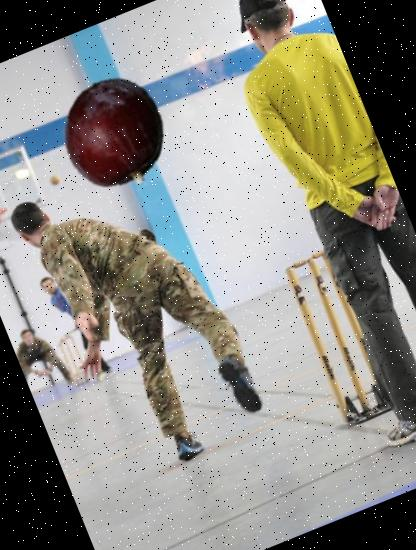Plum: (42, 61, 188, 207)
